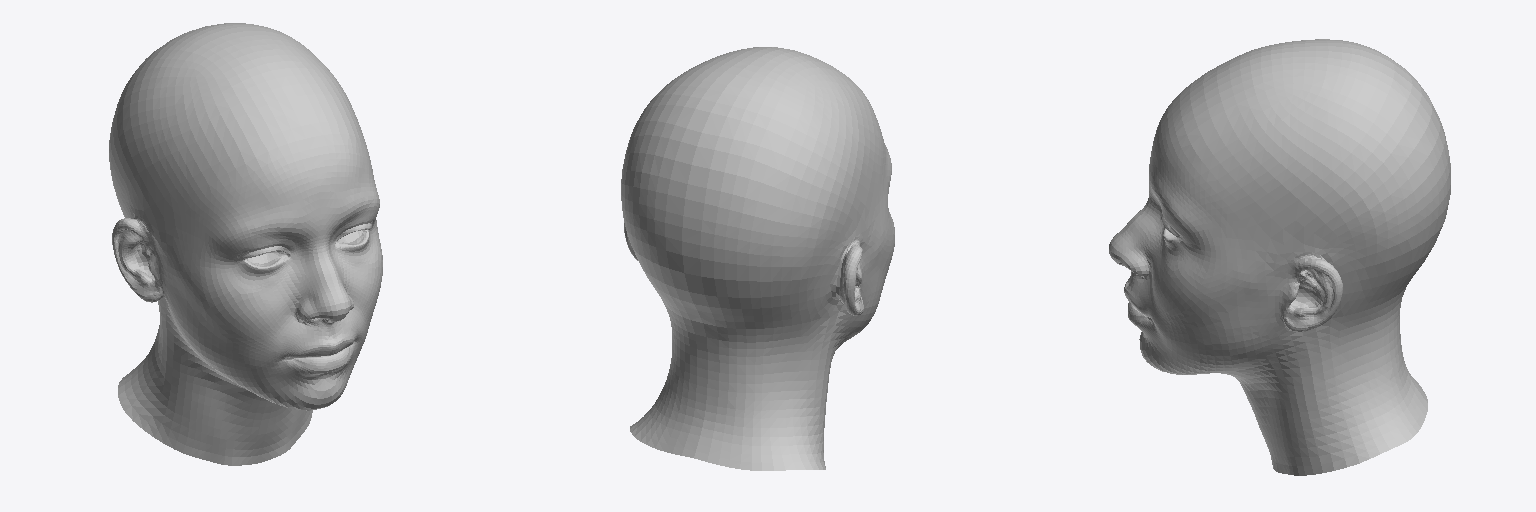
File: Retopologised_Female_Head_01_mod.obj
3 renders of one model, left to right at view 1: azimuth 30°, elevation 25°; view 2: azimuth 150°, elevation 25°; view 3: azimuth 270°, elevation 25°, orthographic.
Bounding box in the file's own units: 16.75 × 28.4 × 21.54.